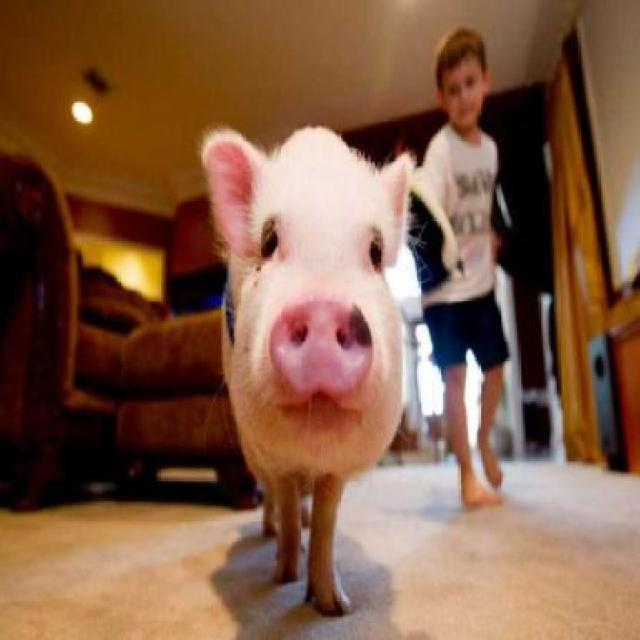pig: (202, 128, 412, 615)
